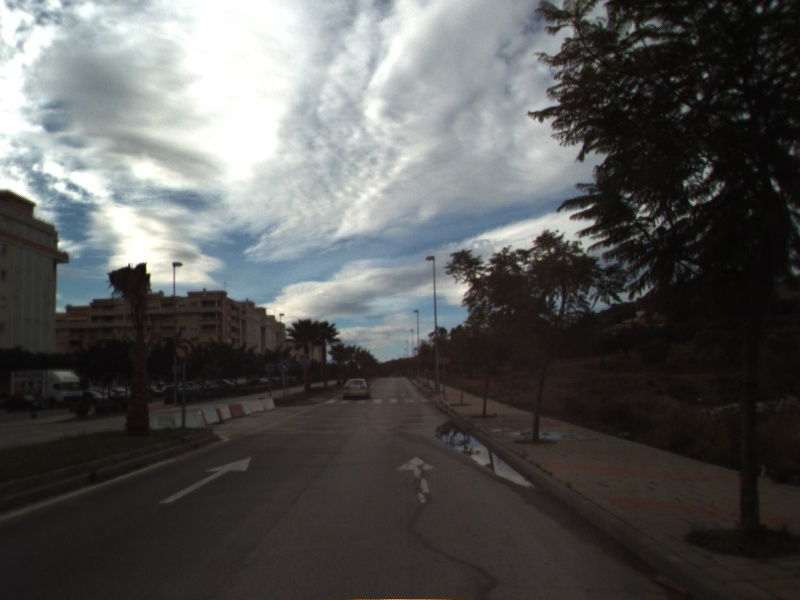STRAIGHT: (156, 455, 253, 505), (395, 454, 440, 506)
